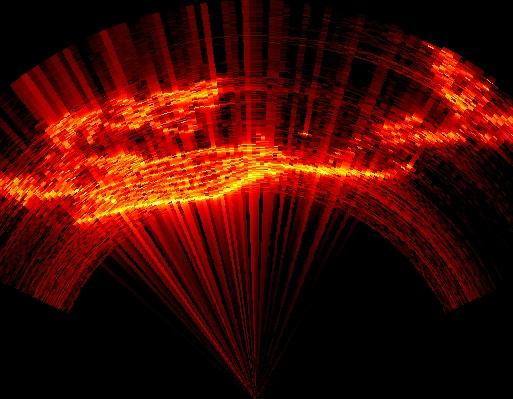shipwreck: (0, 140, 385, 219), (45, 79, 225, 155), (378, 115, 470, 144), (467, 112, 512, 142), (443, 89, 476, 121)
